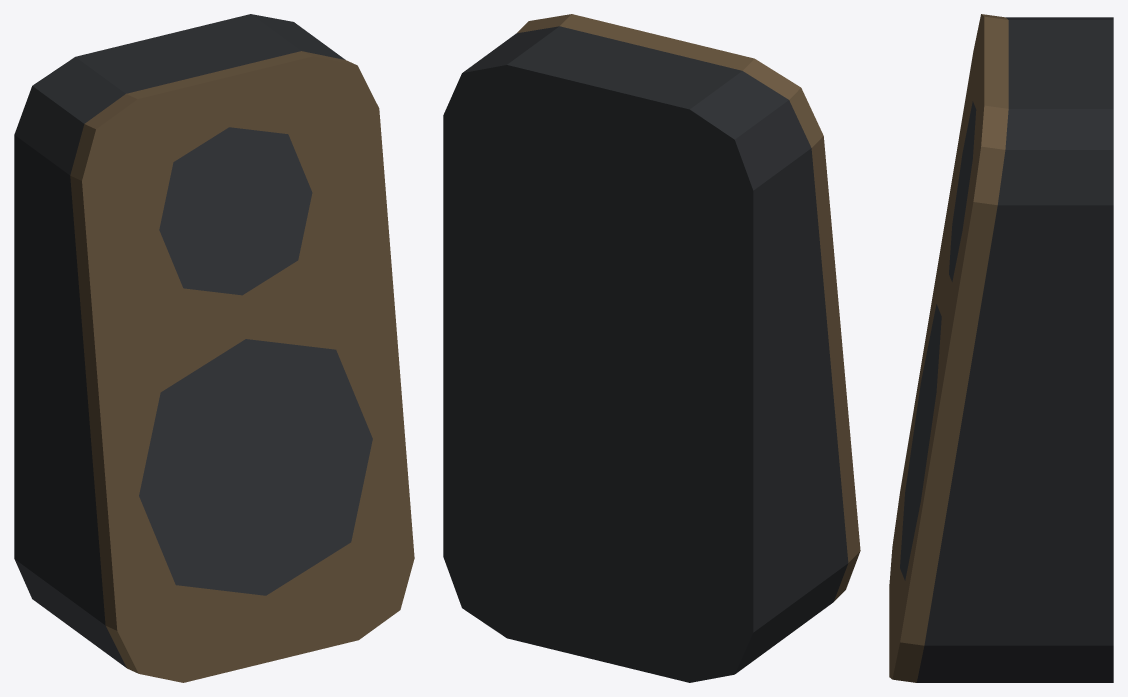
File: GuitarCab.obj
The picture shows the model from 3 angles, left to right: view 1: azimuth 30°, elevation 25°; view 2: azimuth 150°, elevation 25°; view 3: azimuth 270°, elevation 25°; orthographic projection. The views are drawn at different scales.
Size of the model in its own units: 0.4217 by 0.75 by 0.2656.
1 material, 1 textured.
